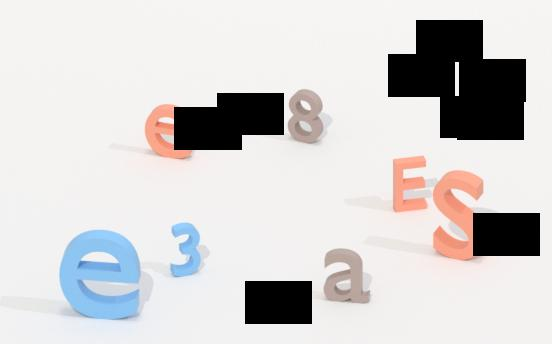3: (168, 221, 202, 280)
8: (284, 87, 326, 156)
E-hoa: (389, 152, 432, 219)
a: (323, 245, 373, 307)
e: (58, 227, 143, 324), (144, 101, 195, 165)
s: (433, 169, 488, 263)
